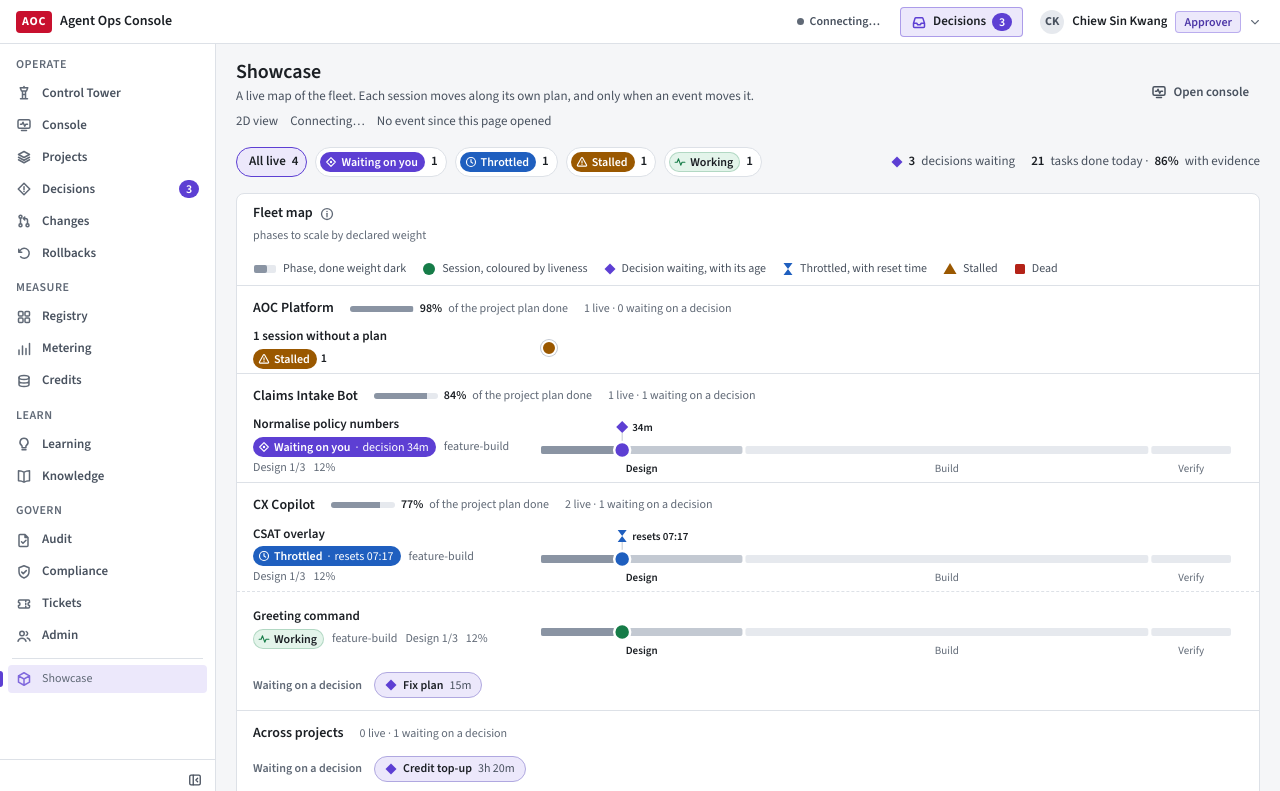
Test case: showcase › filters the map by liveness from the counts
Expected: the button "All live 4" is shown, [236,147,308,177]
Click the button "Throttled 1": (506, 162) [455,147,558,177]
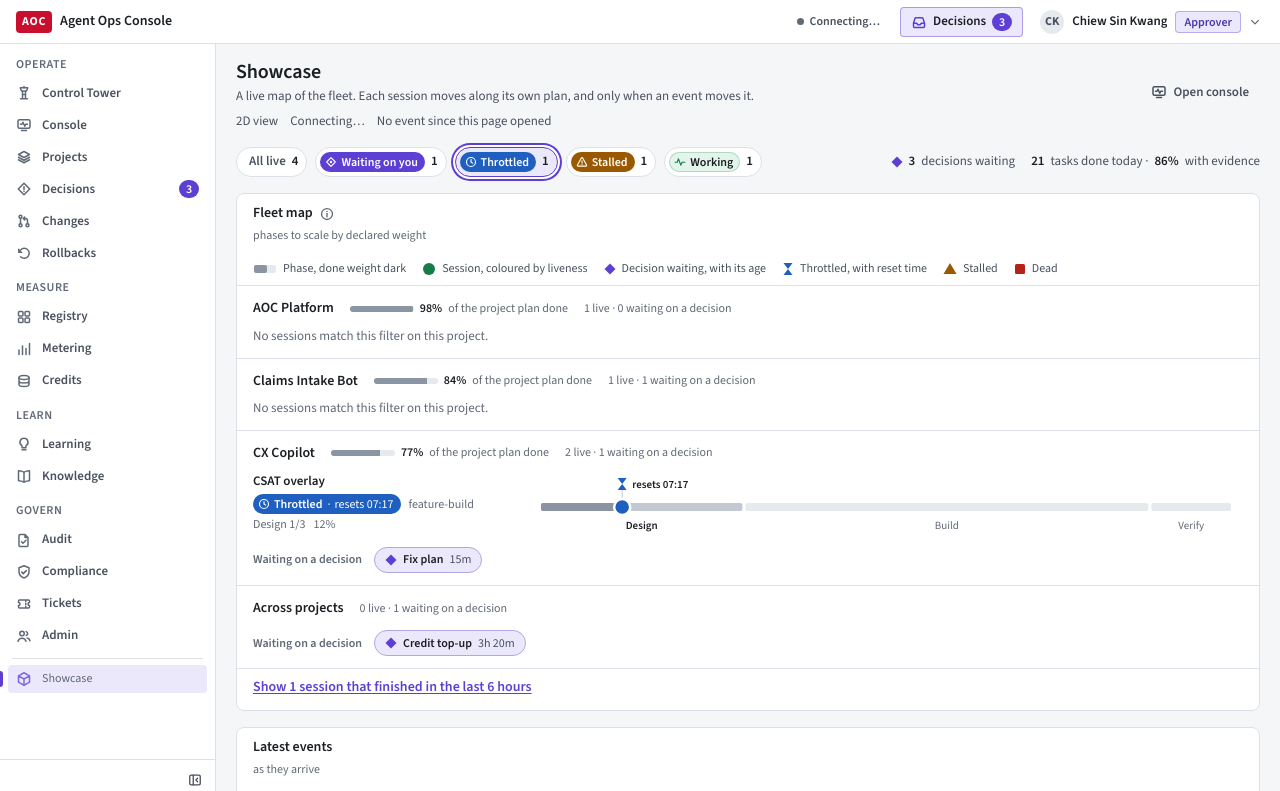
Expected: the picture named "CSAT overlay" is shown, [529,471,1243,535]
Now the link "Greeting command" is gone
Now the text "No sessions match this filter on this project." below "Claims Intake Bot" is shown, box [253,399,488,416]
